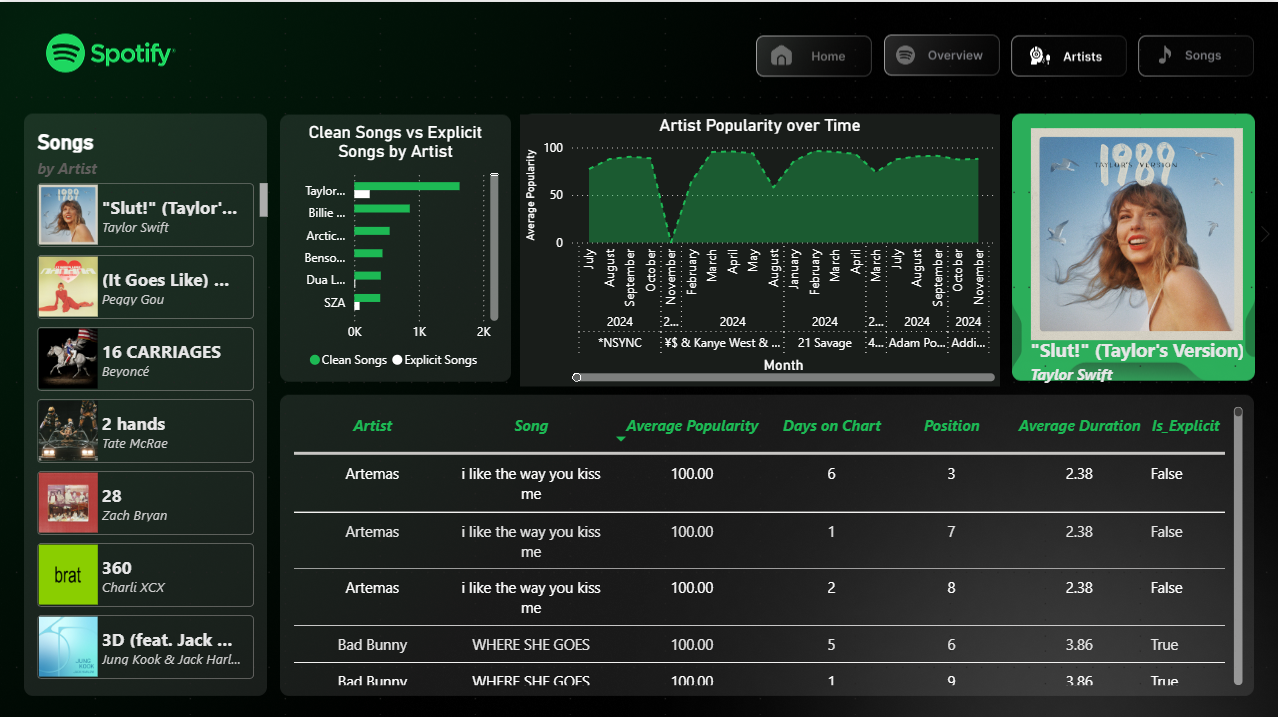

Layout of this report page (visuals, bound fields, positions):
{"tool":"powerbi","page":{"name":"Artist","canvas":[1280,720],"ordinal":2},"visuals":[{"type":"actionButton","box":[768,32,96,32],"z":0},{"type":"actionButton","box":[896,32,96,32],"z":1000},{"type":"actionButton","box":[1152,32,96,32],"z":2000},{"type":"tableEx","fields":{"Values":["Spotify.artist","Spotify.song","AllMeasures.Average Popularity","AllMeasures.Days on Chart","Spotify.position","AllMeasures.Average Duration","Spotify.is_explicit"]},"box":[288,400,960,288],"z":3000},{"type":"areaChart","title":"Artist Popularity over Time","fields":{"Y":["AllMeasures.Average Popularity"],"Category":["Spotify.artist","Spotify.date.Variation.Date Hierarchy.Year","Spotify.date.Variation.Date Hierarchy.Month"]},"box":[520,112,480,272],"z":4000},{"type":"clusteredBarChart","title":"Clean Songs vs Explicit Songs by Artist","fields":{"Category":["Spotify.artist"],"Y":["AllMeasures.Clean Songs","AllMeasures.Explicit Songs"]},"box":[288,120,216,256],"z":5000},{"type":"advancedSlicerVisual","title":"Songs","fields":{"Values":["Spotify.song"]},"box":[32,128,240,560],"z":6000},{"type":"advancedSlicerVisual","title":"Songs","fields":{"Values":["Spotify.song"]},"box":[992,64,288,336],"z":7000},{"type":"actionButton","box":[1024,32,96,32],"z":8000}]}

Visuals, with their boxes in screenshot pixels (x1, y1, x2, y2), scaled from the page's 1280x720 canvas onto the 1278x717 screenshot:
actionButton: 767,32,863,64
actionButton: 895,32,990,64
actionButton: 1150,32,1246,64
tableEx - Spotify.artist x Spotify.song: 288,398,1246,685
"Artist Popularity over Time" areaChart: 519,112,998,382
"Clean Songs vs Explicit Songs by Artist" clusteredBarChart: 288,120,503,374
"Songs" advancedSlicerVisual: 32,127,272,685
"Songs" advancedSlicerVisual: 990,64,1277,398
actionButton: 1022,32,1118,64
